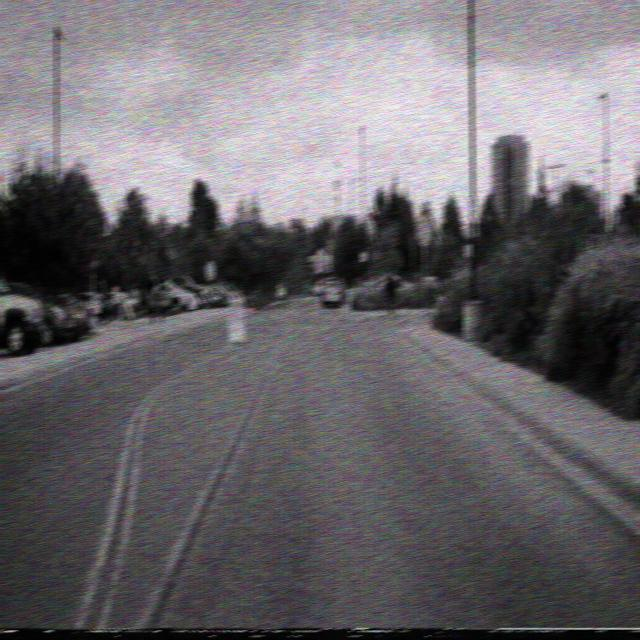stop: (414, 214, 434, 246)
